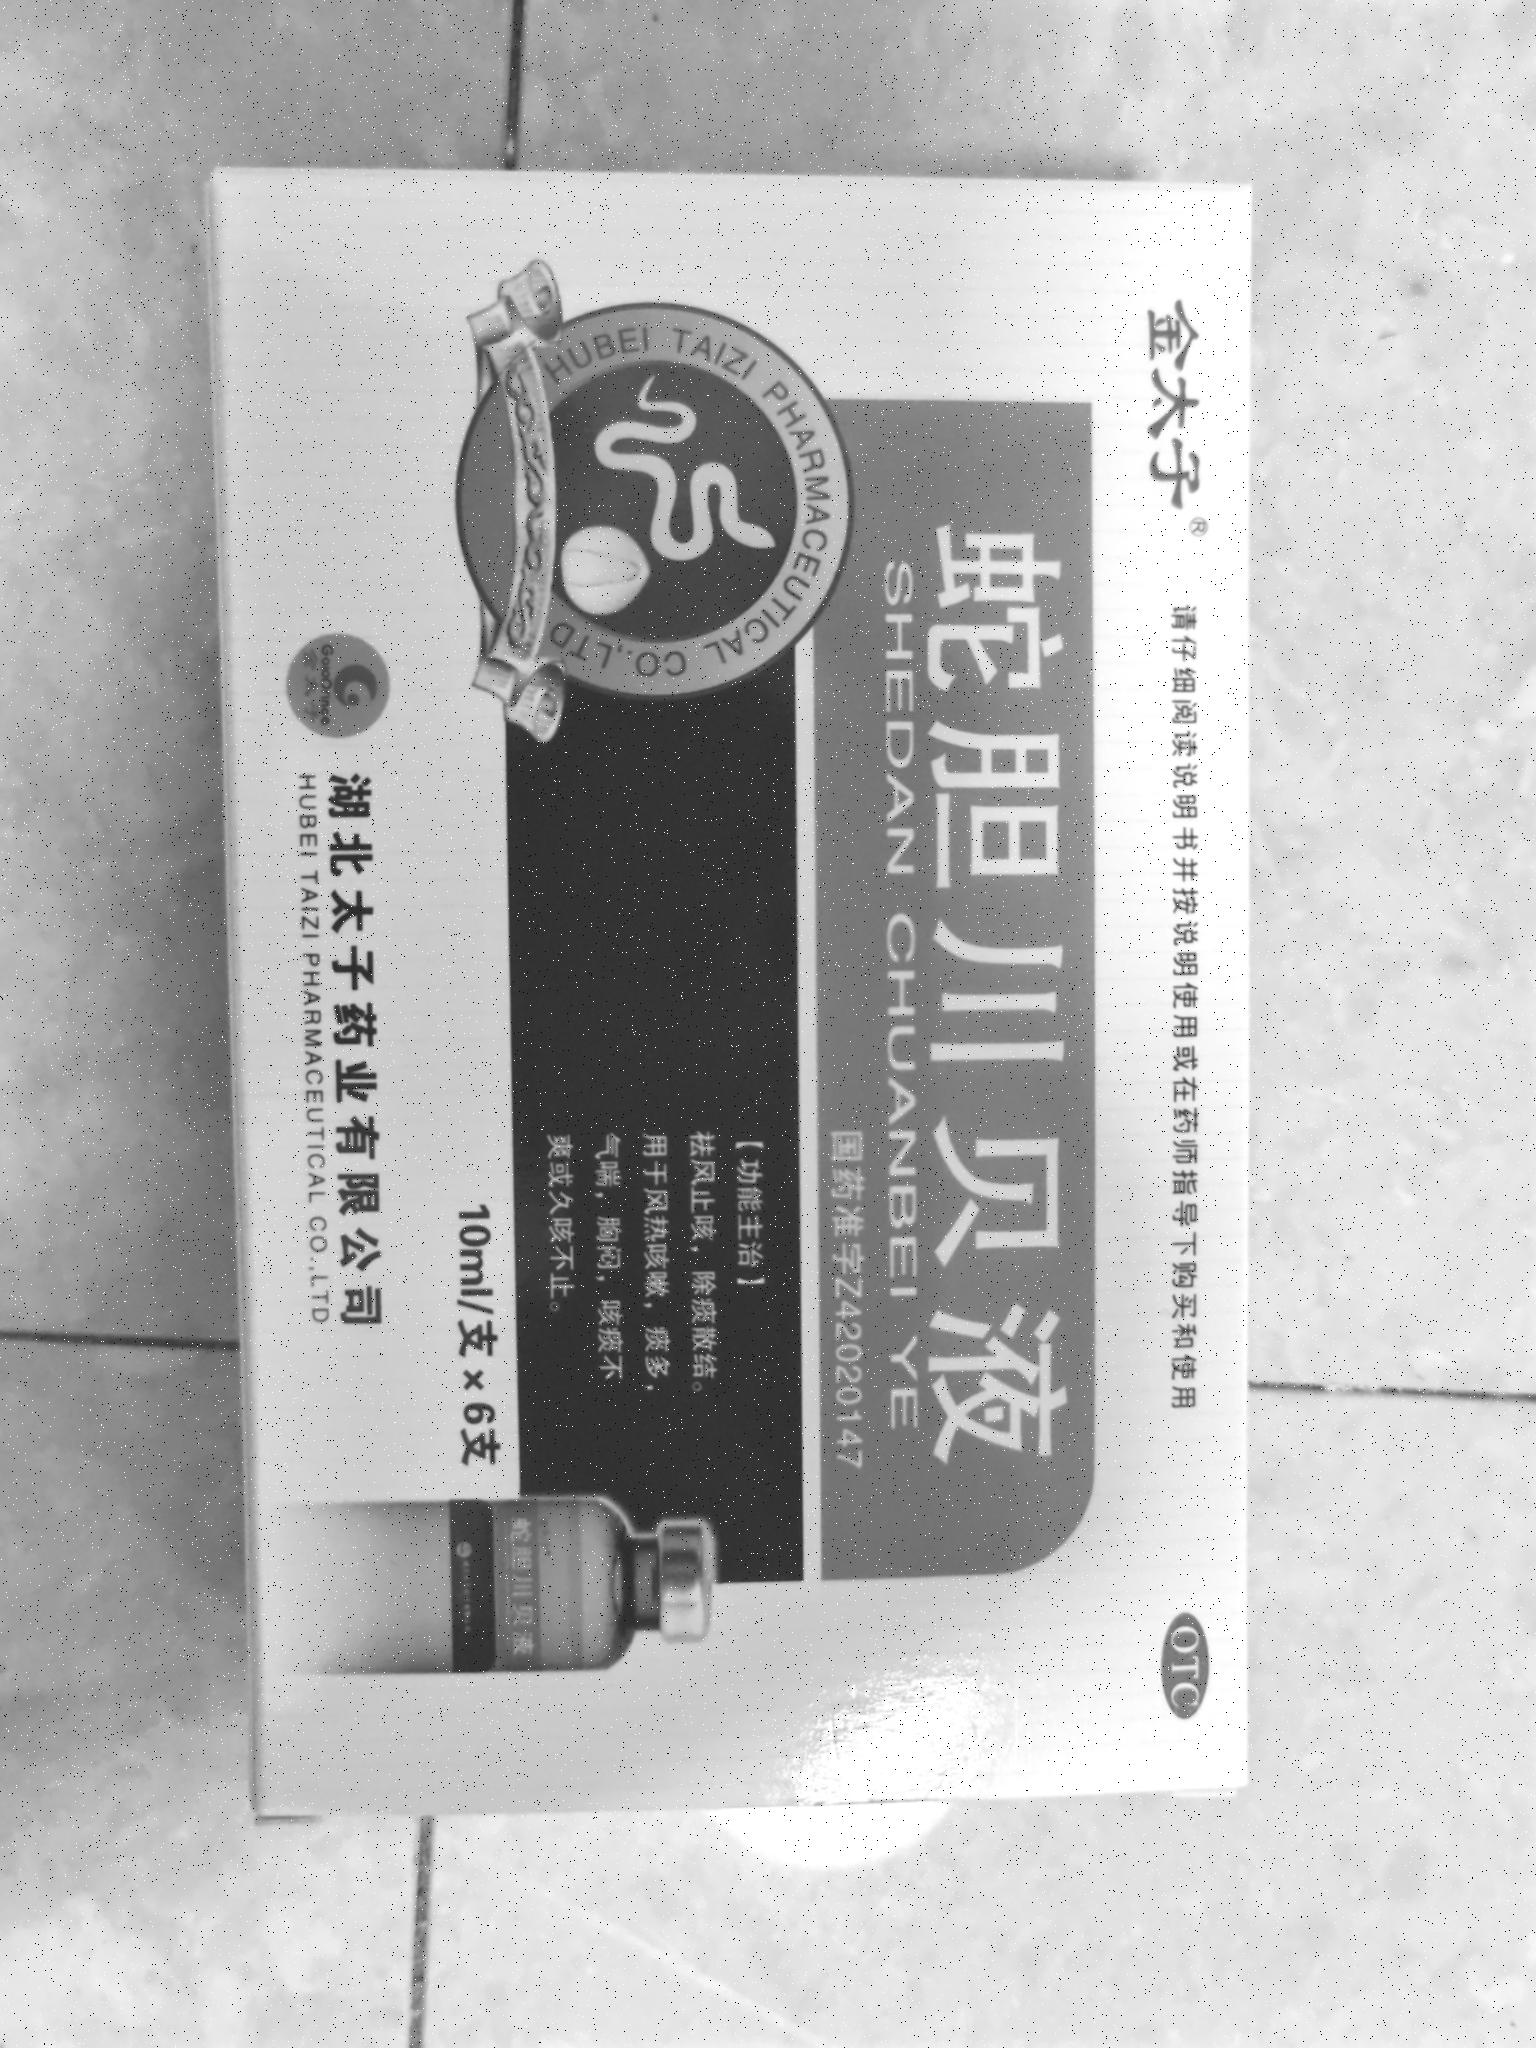Medicine5: (173, 132, 1289, 1845)
